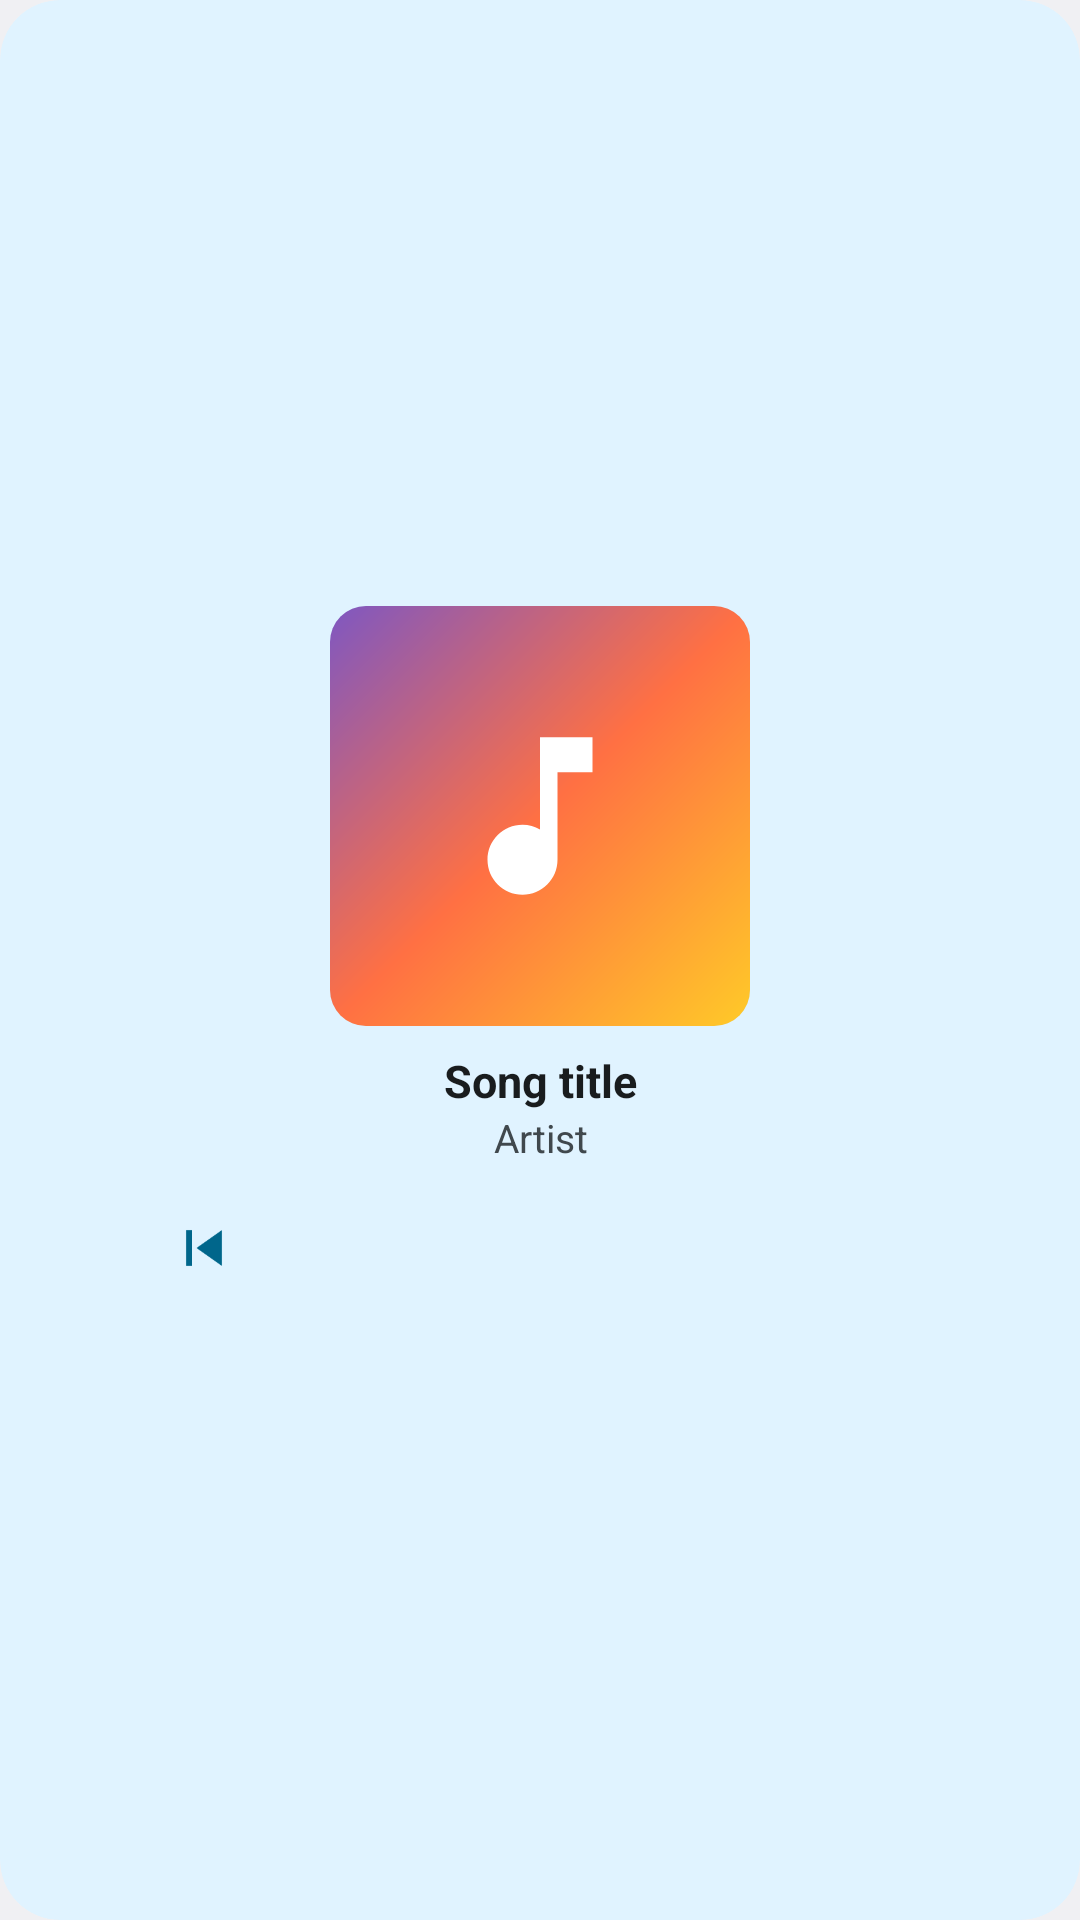

Icons on this 1080 x 1920 Android screen, each with the point to tap as (x=x, y=y):
Previous track: (x=204, y=1248)
